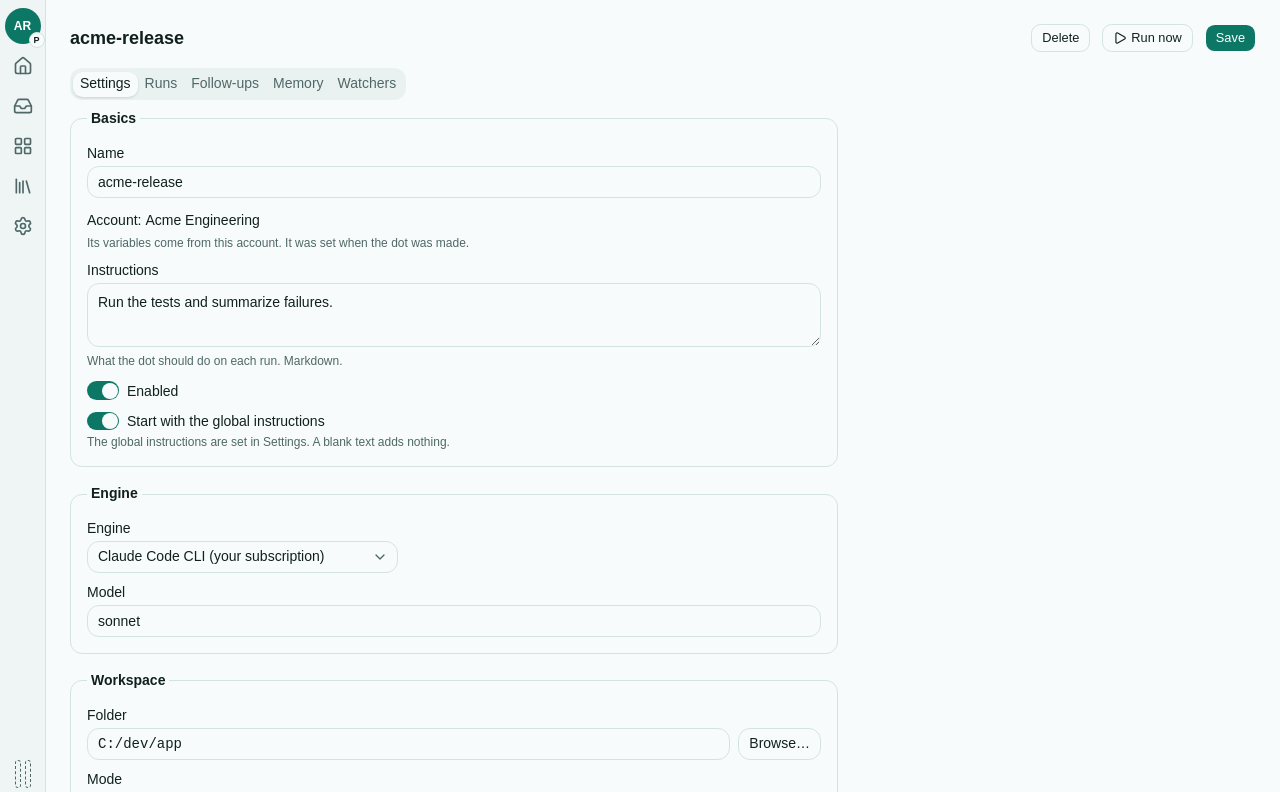
Scenario: a dot whose org was removed › shows the core's refusal when the org went away after the list was read
Expected: the element "Account" shows "Account: Acme Engineering", 87,212 -> 469,250
Click the button "Save".
click(1230, 38)  # box 1205,24 -> 1256,52
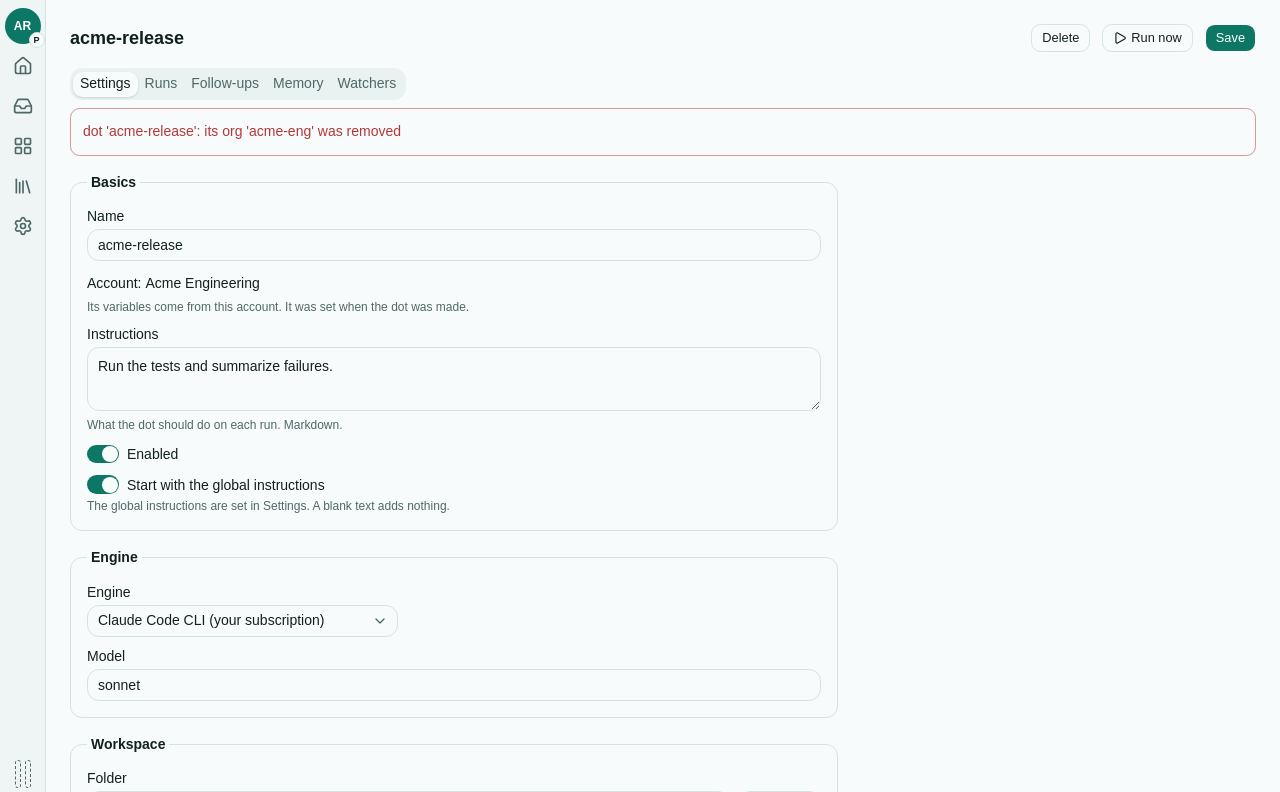
Expected: the message reads "dot 'acme-release': its org 'acme-eng' was removed", 83,123 -> 401,139
